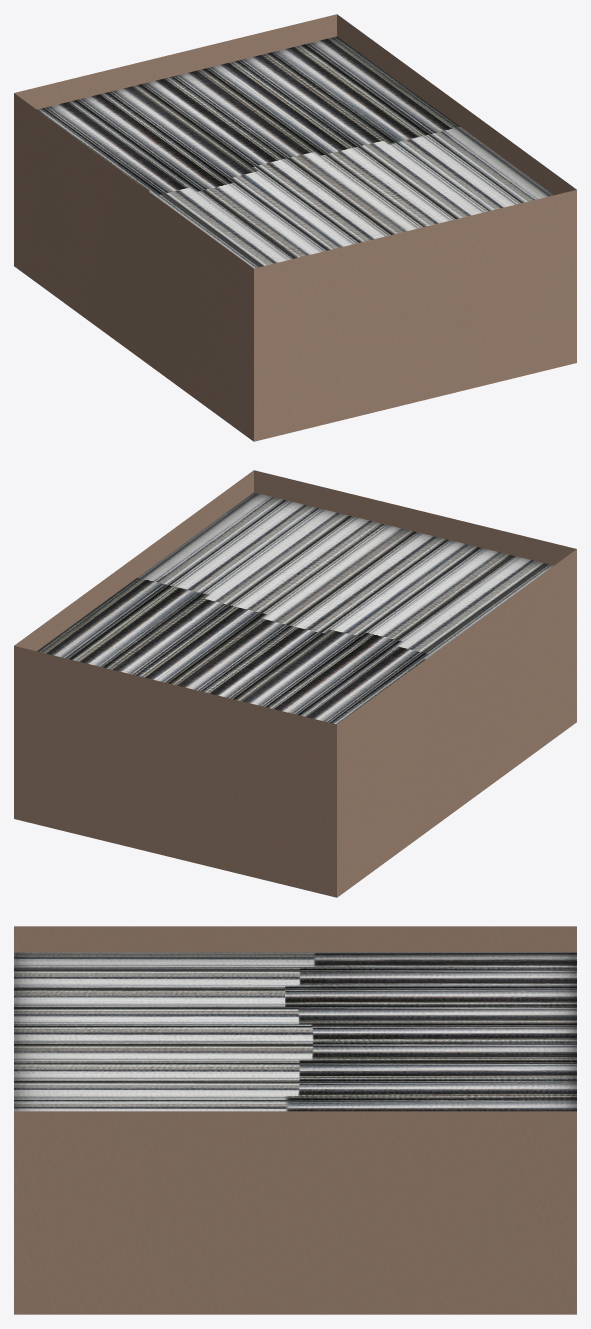
The model's file is Contenido Carros.FBX.
3 renders of one model, top to bottom at view 1: azimuth 30°, elevation 25°; view 2: azimuth 150°, elevation 25°; view 3: azimuth 270°, elevation 25°, orthographic. The views are drawn at different scales.
Parts seen in each view (by area): view 1: Contenidos_Carros, Tubos; view 2: Contenidos_Carros, Tubos; view 3: Contenidos_Carros, Tubos.
Boxes of the visible parts, x1,y1,x2,y2 form: Contenidos_Carros: [14, 14, 576, 441]; Tubos: [37, 36, 553, 268]; Contenidos_Carros: [14, 470, 576, 897]; Tubos: [37, 492, 553, 724]; Contenidos_Carros: [14, 926, 576, 1314]; Tubos: [14, 952, 576, 1111].
Size of the model in its own units: 0.7614 by 0.39 by 0.979.
1 material, 1 textured.
